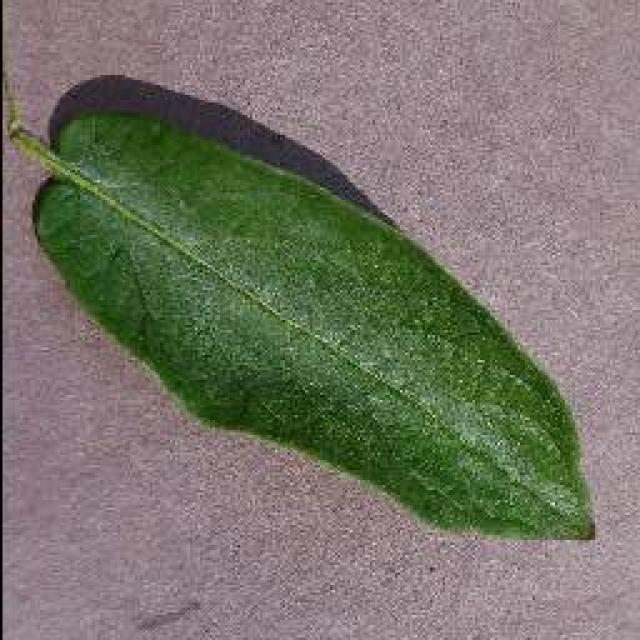Potato___healthy: (2, 78, 596, 542)
